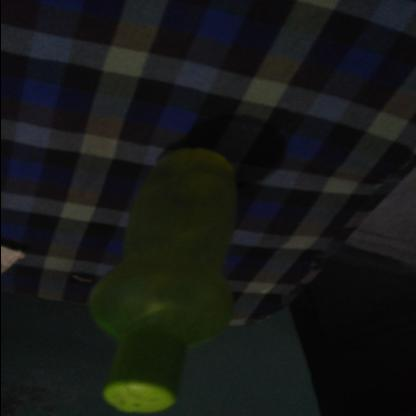bottle: (58, 237, 412, 357)
